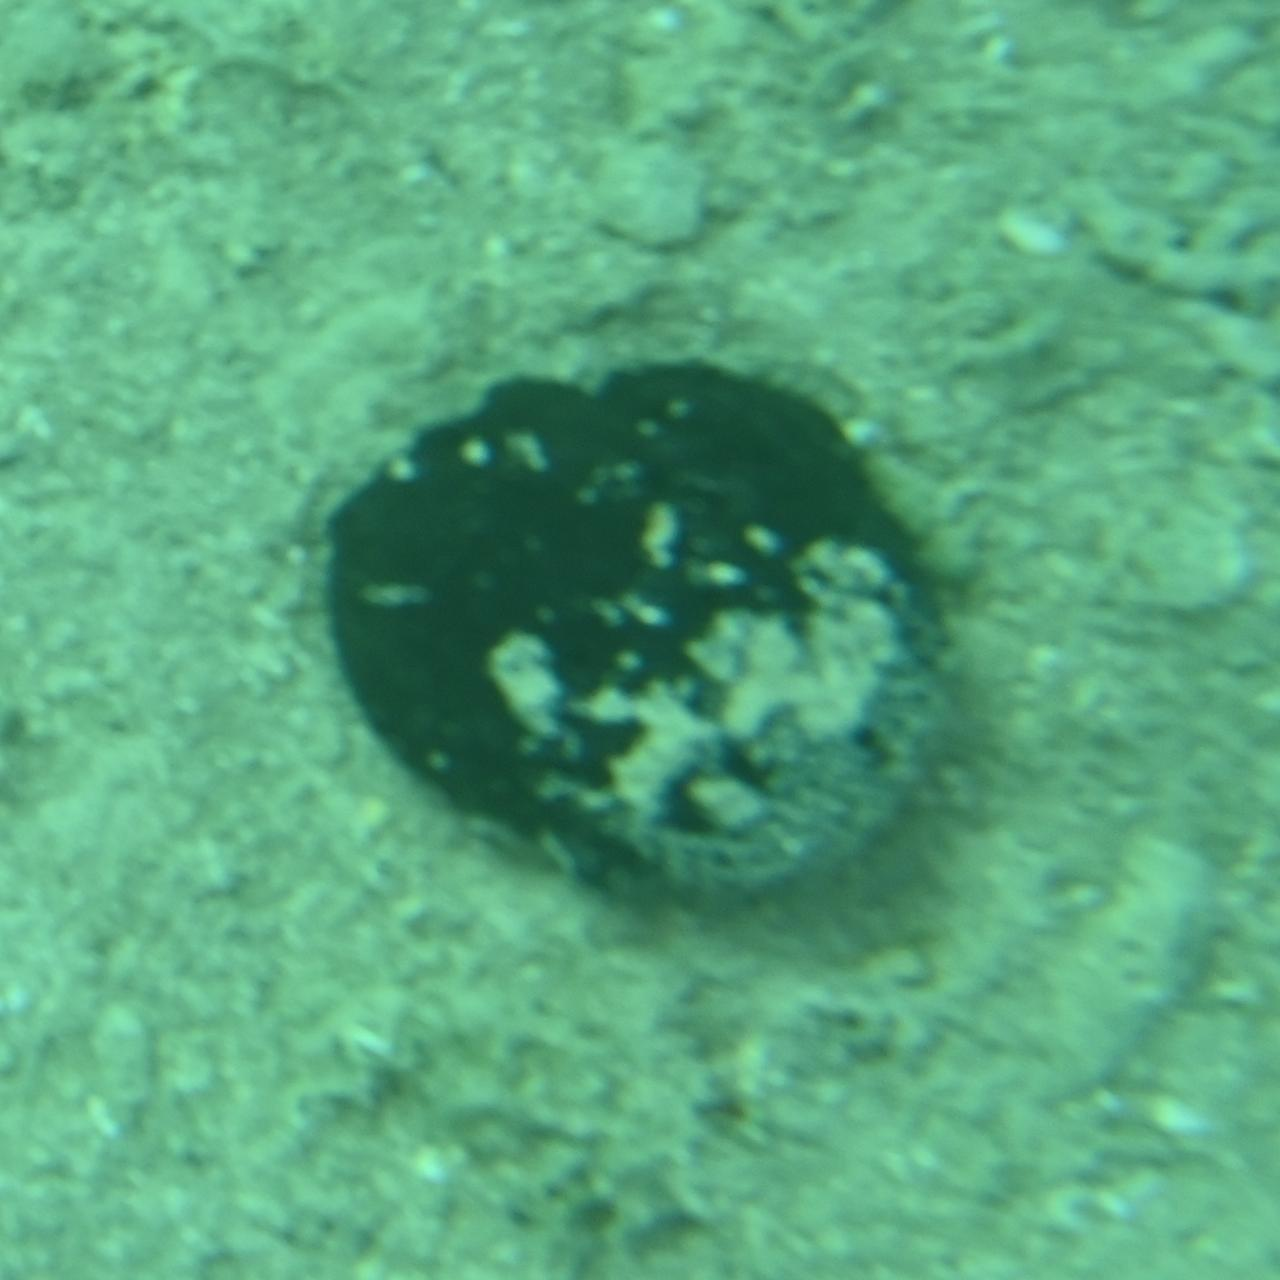Keratosa -cfr Sarcotragus-: (319, 365, 961, 915)
